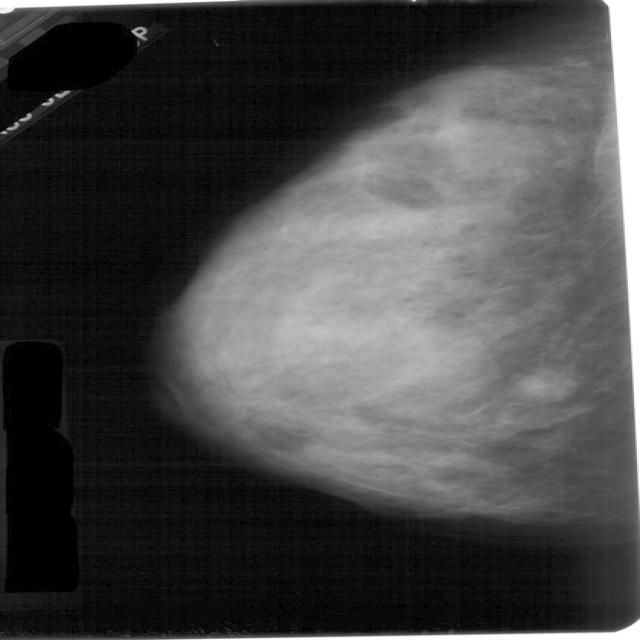tumour: (518, 371, 578, 400)
